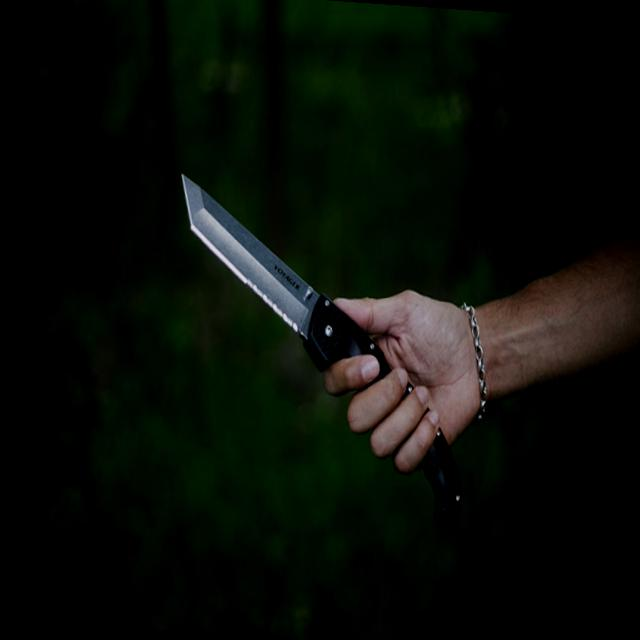knife: (150, 157, 492, 538)
